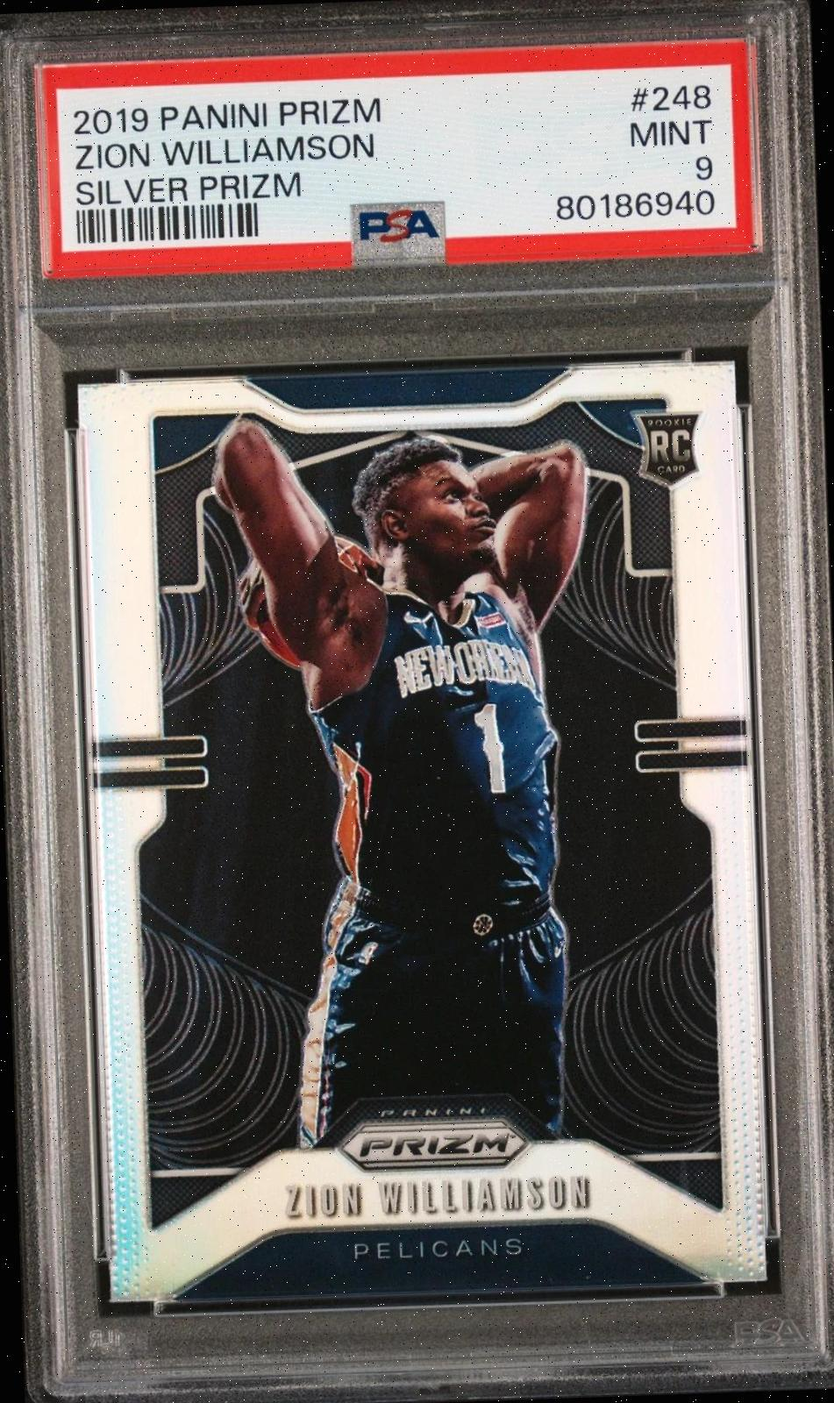card-2UtV: (76, 359, 768, 1304)
